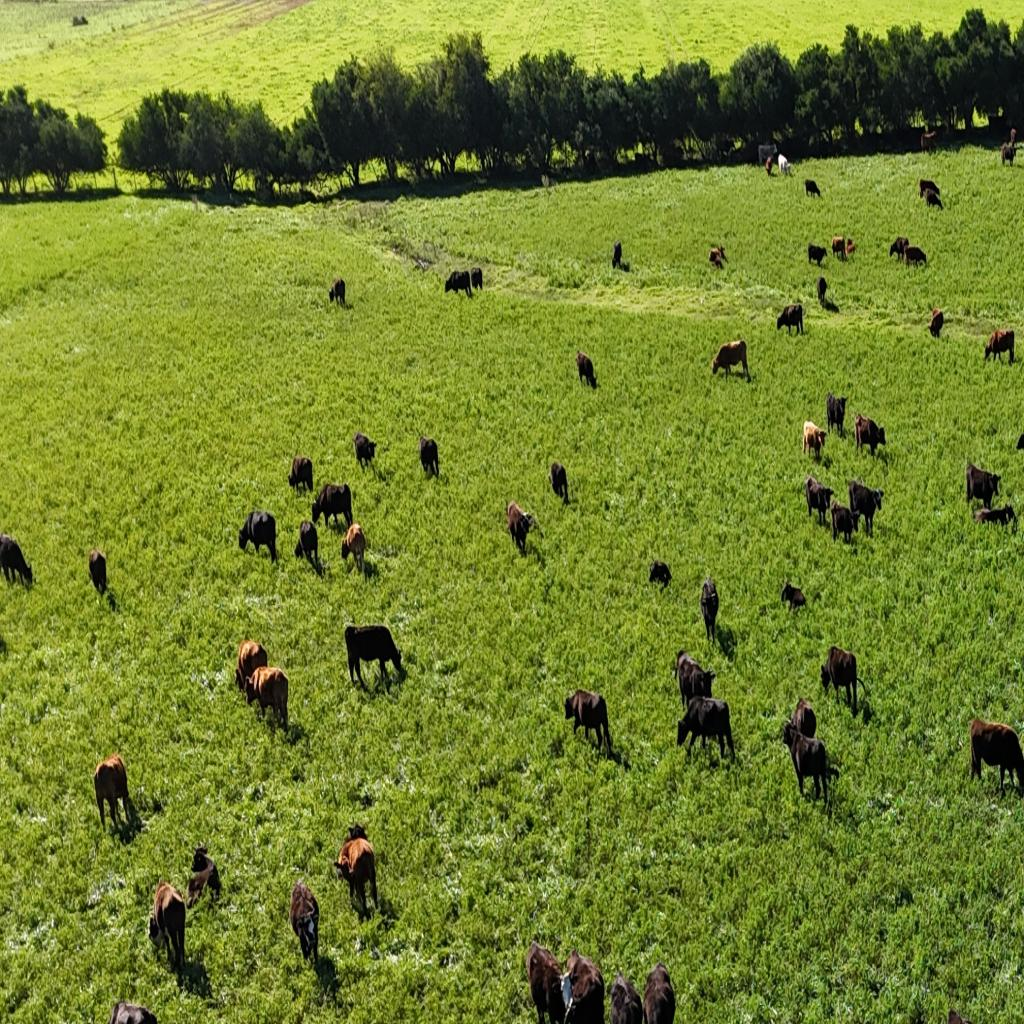cow: (149, 841, 223, 974), (776, 704, 848, 810), (672, 652, 733, 768), (968, 718, 1023, 796), (344, 622, 404, 684), (528, 939, 571, 1022), (563, 687, 613, 758), (340, 826, 380, 910), (560, 950, 605, 1022), (93, 752, 133, 830), (242, 665, 288, 732), (820, 645, 863, 711), (290, 877, 320, 967), (847, 477, 885, 538), (186, 846, 220, 910), (642, 960, 675, 1024), (238, 508, 277, 562), (313, 479, 352, 531), (608, 968, 644, 1023), (676, 658, 715, 708), (0, 532, 33, 589), (235, 639, 268, 695), (505, 502, 537, 554), (711, 339, 748, 379), (805, 475, 834, 526), (854, 413, 886, 458), (442, 266, 484, 300), (830, 499, 859, 544), (108, 999, 158, 1024), (294, 519, 318, 567), (984, 328, 1016, 364), (789, 697, 816, 739), (700, 581, 718, 643), (802, 420, 827, 462), (288, 454, 314, 494), (826, 392, 848, 436), (343, 522, 367, 562), (776, 303, 804, 336), (352, 432, 376, 470), (88, 548, 107, 595), (549, 461, 569, 504), (419, 436, 439, 478), (575, 349, 596, 389), (762, 152, 794, 178), (780, 581, 806, 612), (983, 470, 1000, 508), (649, 560, 672, 588), (191, 842, 211, 874), (328, 278, 346, 308), (902, 246, 926, 268), (890, 236, 910, 262), (807, 243, 827, 269), (919, 176, 939, 200), (929, 307, 944, 339), (708, 245, 726, 271), (1008, 426, 1020, 462), (831, 236, 847, 260), (1001, 142, 1017, 166), (817, 275, 828, 305), (805, 179, 821, 199), (926, 190, 942, 210), (922, 130, 936, 152), (973, 508, 992, 523), (612, 240, 622, 268), (764, 154, 775, 176), (934, 121, 948, 138), (846, 238, 856, 257), (752, 157, 760, 173), (710, 359, 718, 375), (1019, 128, 1024, 146)
